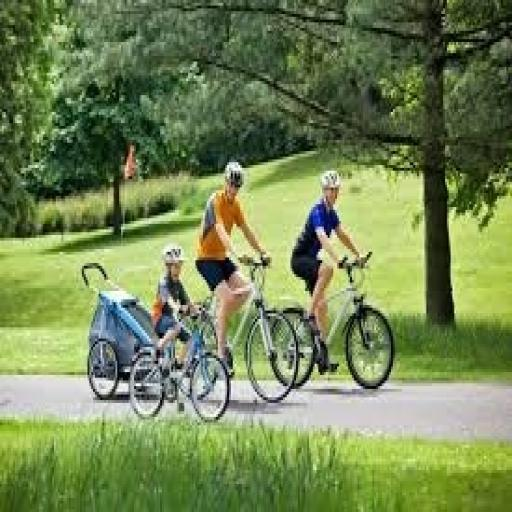cycling: (192, 156, 274, 380), (288, 165, 370, 375), (149, 241, 201, 369)
